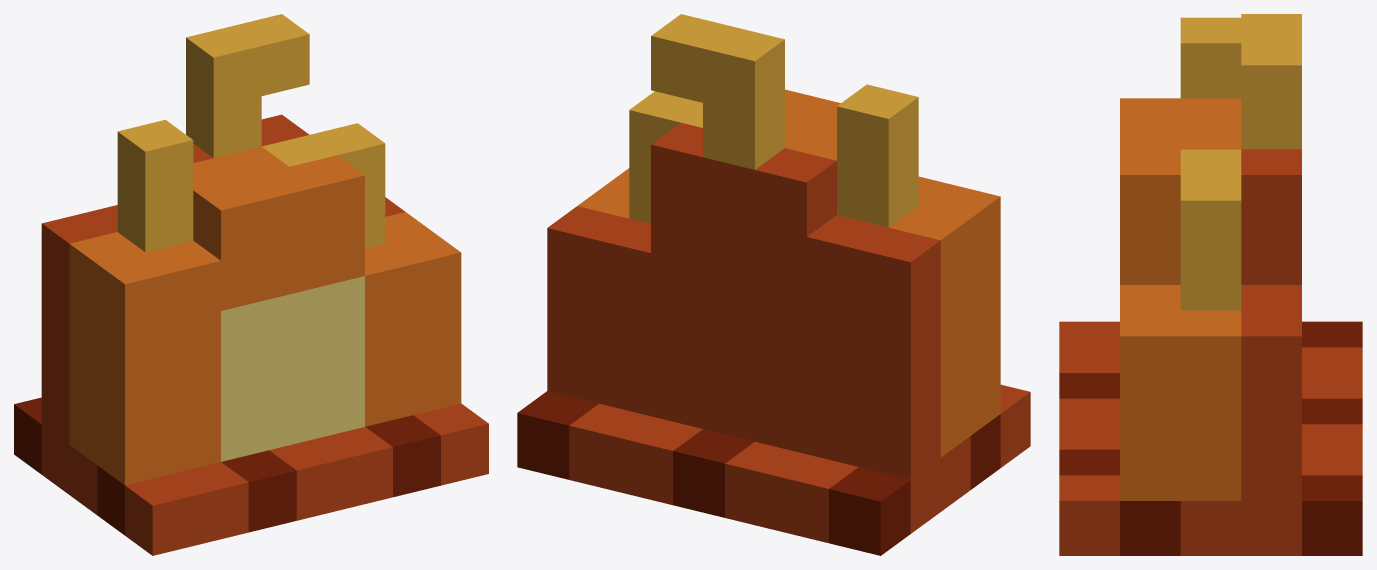
Rendered from flame_01.glb.
3 renders of one model, left to right at view 1: azimuth 30°, elevation 25°; view 2: azimuth 150°, elevation 25°; view 3: azimuth 270°, elevation 25°, orthographic. The views are drawn at different scales.
Visible parts, largest first — view 1: flame_01; view 2: flame_01; view 3: flame_01.
Part boxes in pixels (x1,y1,x2,y2): flame_01: (14, 14, 488, 555); flame_01: (517, 14, 1030, 555); flame_01: (1059, 14, 1362, 555).
Size of the model in its own units: 0.875 by 1 by 0.625.
